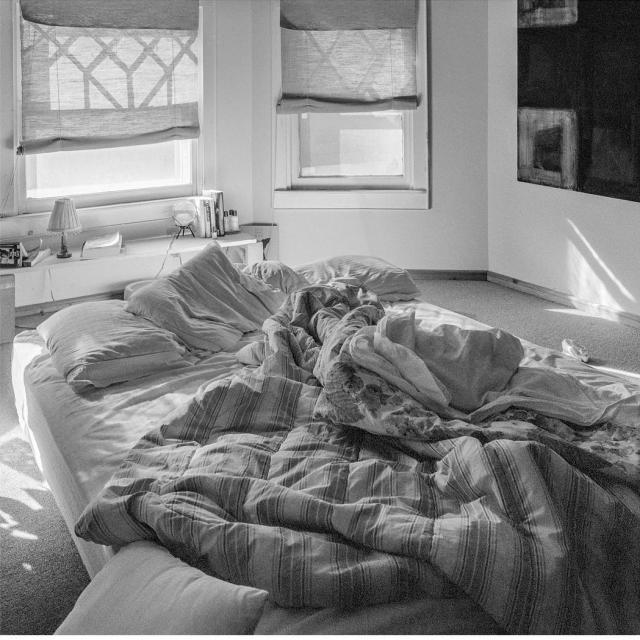bed: (11, 226, 640, 634)
